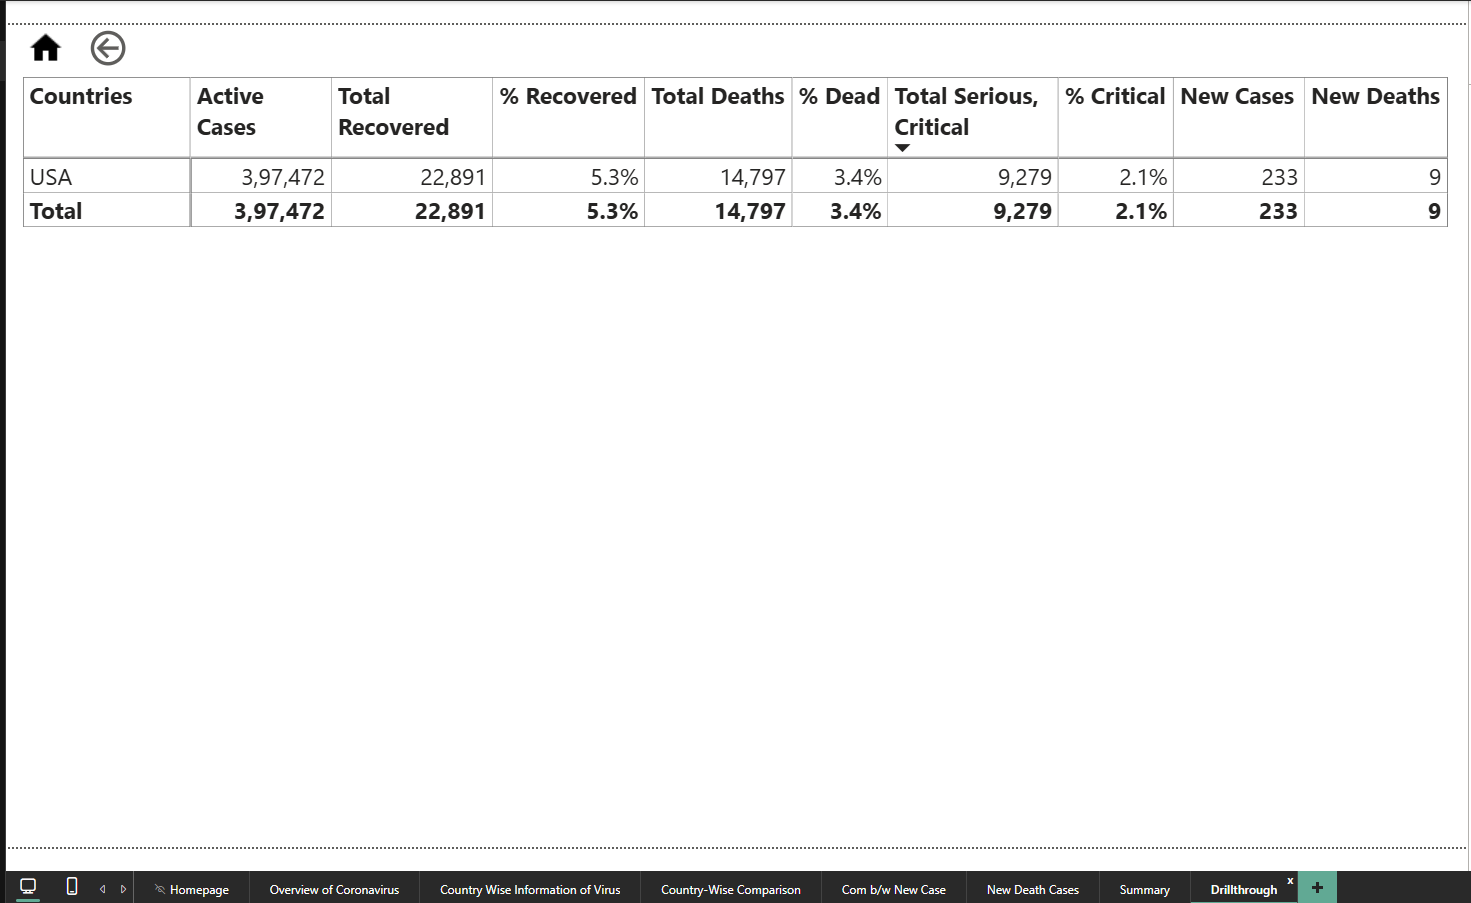

The dashboard page shown, as its layout file describes it:
{"tool":"powerbi","page":{"name":"Drillthrough","canvas":[1280,720],"ordinal":7},"visuals":[{"type":"pivotTable","fields":{"Rows":["Coronavirus Data.Countries, Others"],"Values":["Sum(Coronavirus Data.Active Cases)","Sum(Coronavirus Data.Total Recovered)","Coronavirus Data.% Recovered","Sum(Coronavirus Data.Total Deaths)","Coronavirus Data.% Dead","Sum(Coronavirus Data.Total Serious, Critical)","Coronavirus Data.% Critical","Sum(Coronavirus Data.New Cases)","Sum(Coronavirus Data.New Deaths)"]},"box":[9.2,40.6,1270.8,679.7],"z":0},{"type":"actionButton","box":[69.4,0,60.7,40.5],"z":1000},{"type":"actionButton","box":[8.6,0,60.1,40],"z":2000},{"type":"image","box":[8.7,0,52,40.5],"z":3000}]}

Visuals, with their boxes on the page's 1280x720 design canvas (x1, y1, x2, y2). These are canvas units, not pixel positions in the 1471x903 screenshot, which may show the page scaled, cropped or inside an application window:
pivotTable - Coronavirus Data.Countries, Others x Sum(Coronavirus Data.Active Cases): (9, 41, 1280, 720)
actionButton: (69, 0, 130, 40)
actionButton: (9, 0, 69, 40)
image: (9, 0, 61, 40)
